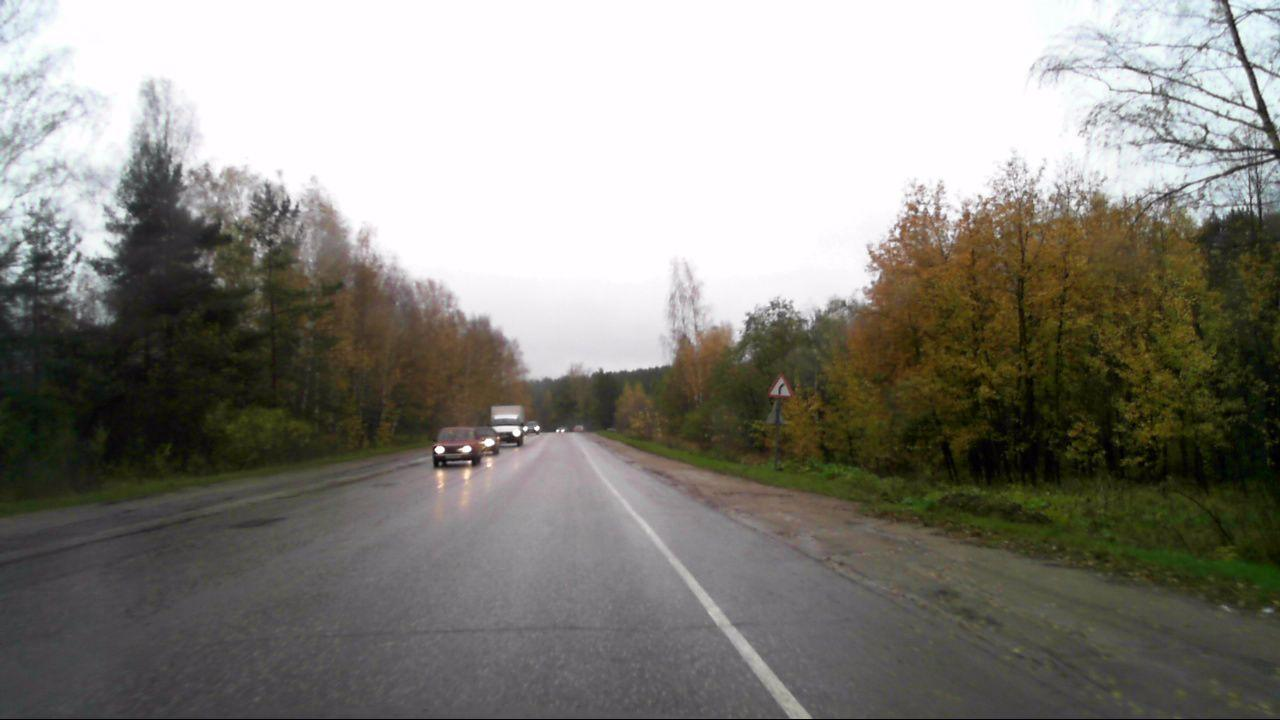road_sign: (763, 369, 798, 399)
